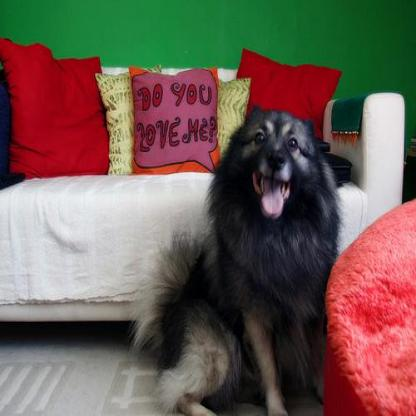keeshond: (129, 103, 341, 414)
